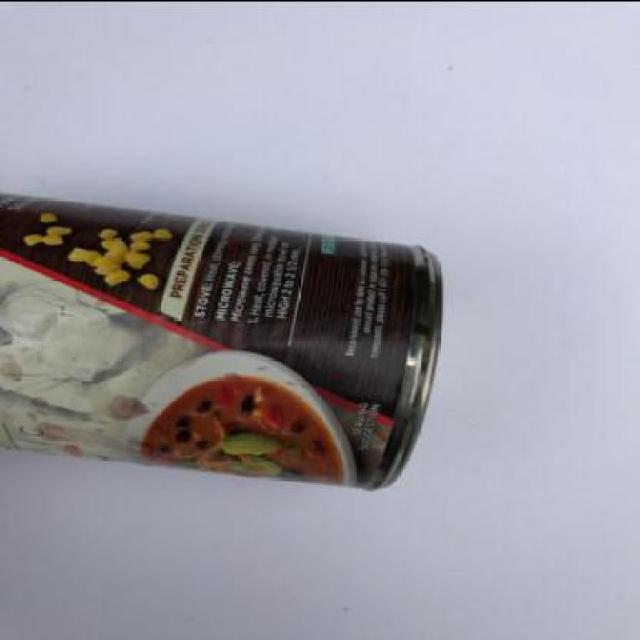METAL: (2, 191, 444, 487)
